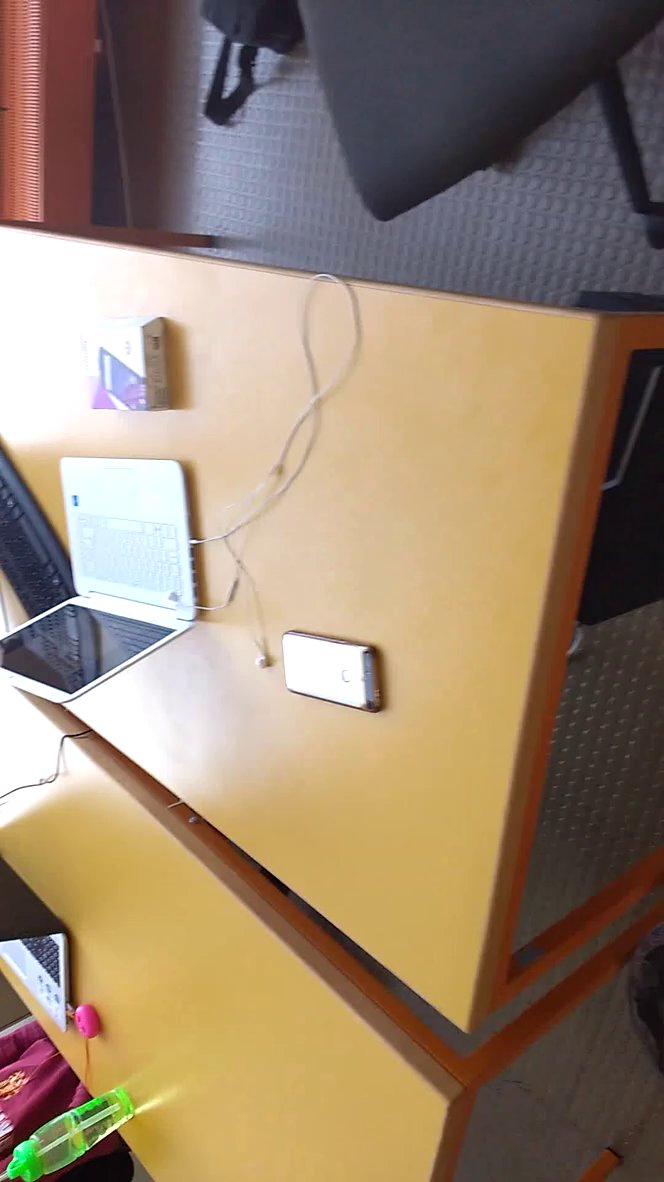laptop: (1, 450, 209, 718)
phone: (270, 623, 398, 729)
